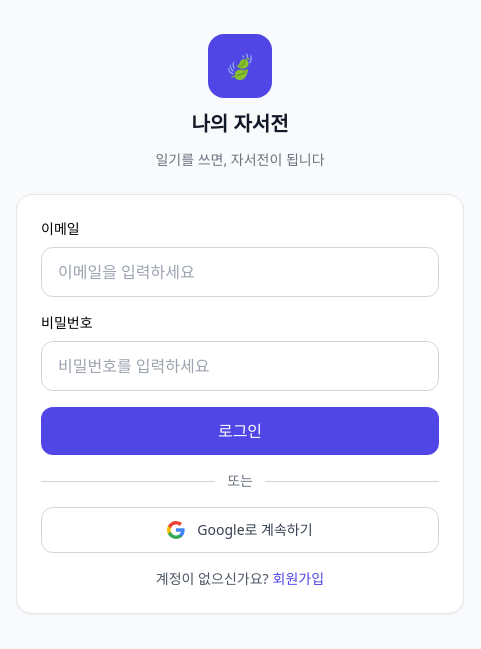
LoginPage (DLD-400 리디자인) › 기존 로그인 로직 유지 › should not redirect when login fails
The width and height of the screenshot is (481, 649).
In the field with test id "email-input": (240, 272) [41,247,439,297], type "wrong@example.com"
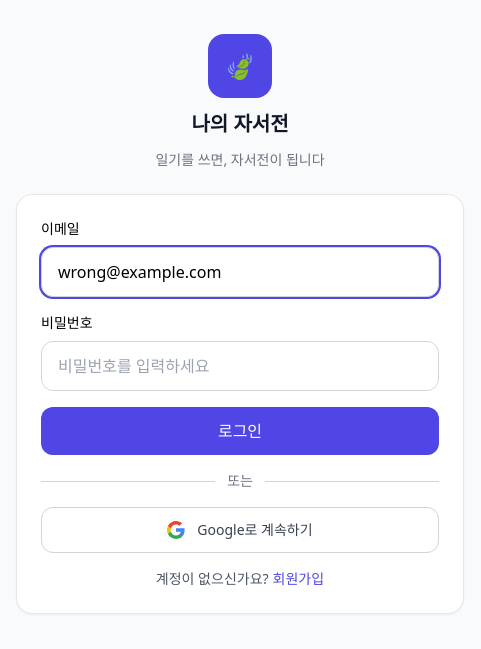
In the password field with test id "password-input": (240, 366) [41,341,439,391], type "wrongpass"
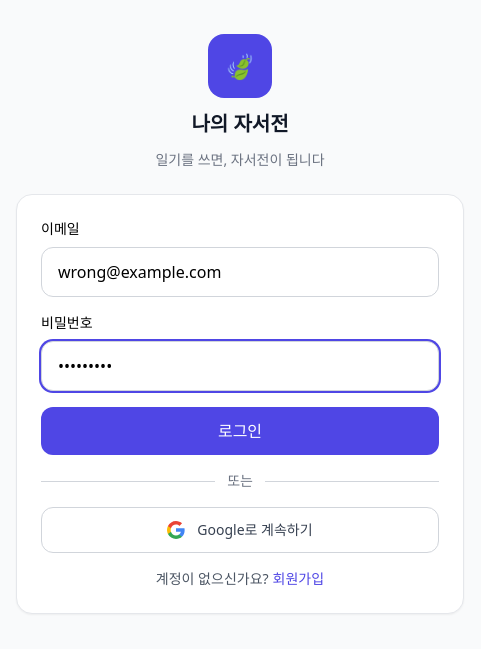
Click the button with test id "submit-button": (240, 431) [41,407,439,455]
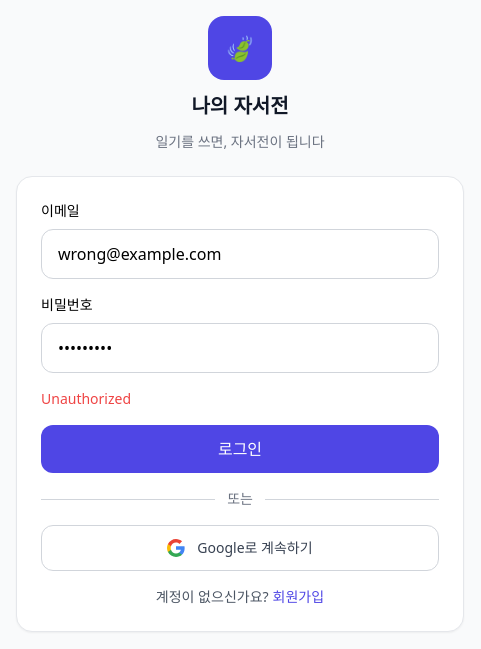
Now the message "Unauthorized" is shown, box [41,389,131,408]
